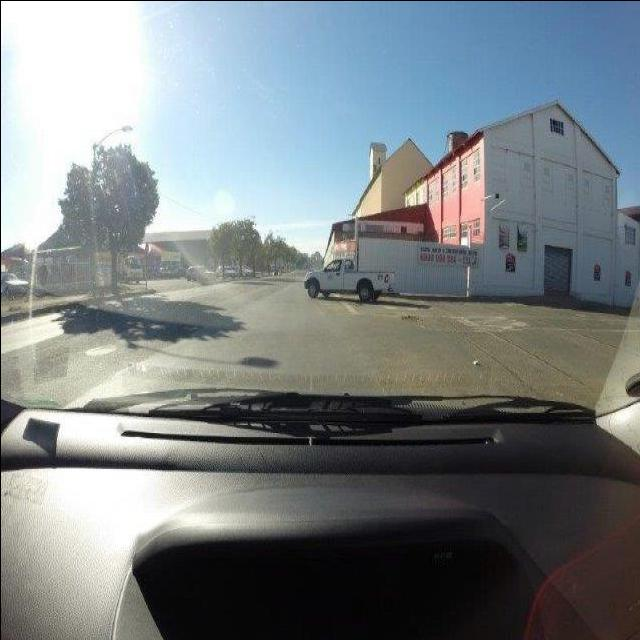lubang: (400, 314, 424, 324)
